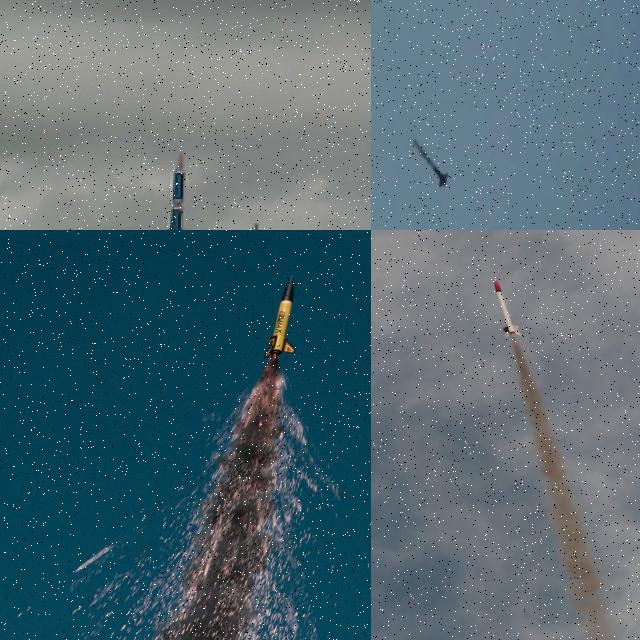Rocket: (263, 275, 297, 358), (160, 152, 188, 230), (412, 136, 450, 186), (493, 277, 522, 339)
